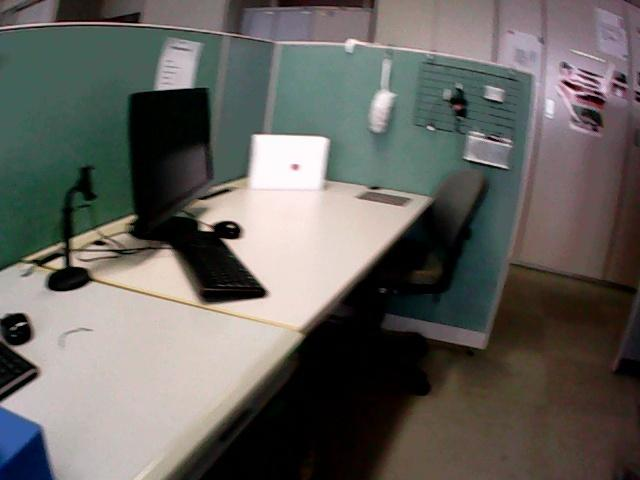blue_block: (0, 408, 52, 479)
